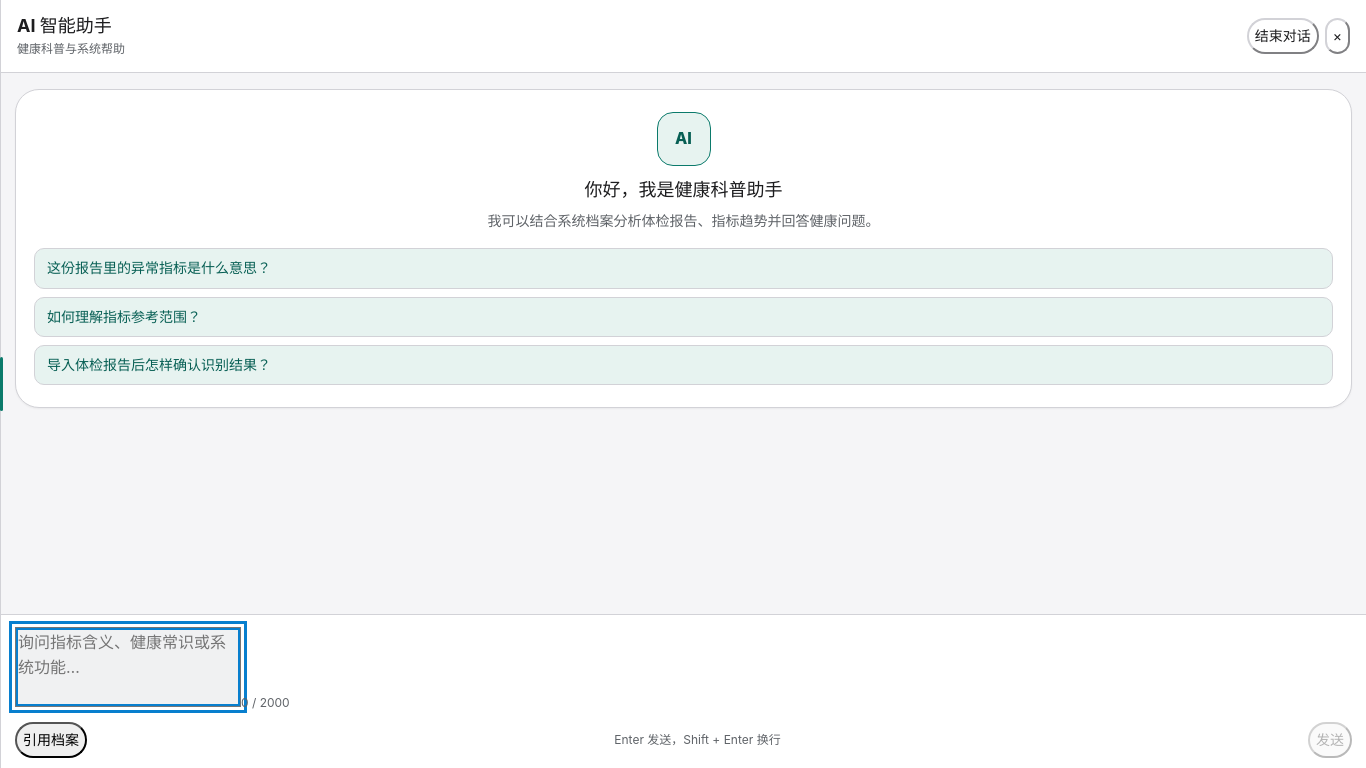
Test: AiAssistant record-aware interaction › does not load or show records initially and loads them on manual request
Step 1. Click the button with test id "open-record-picker" → x=51, y=740, box [15,722,87,758]
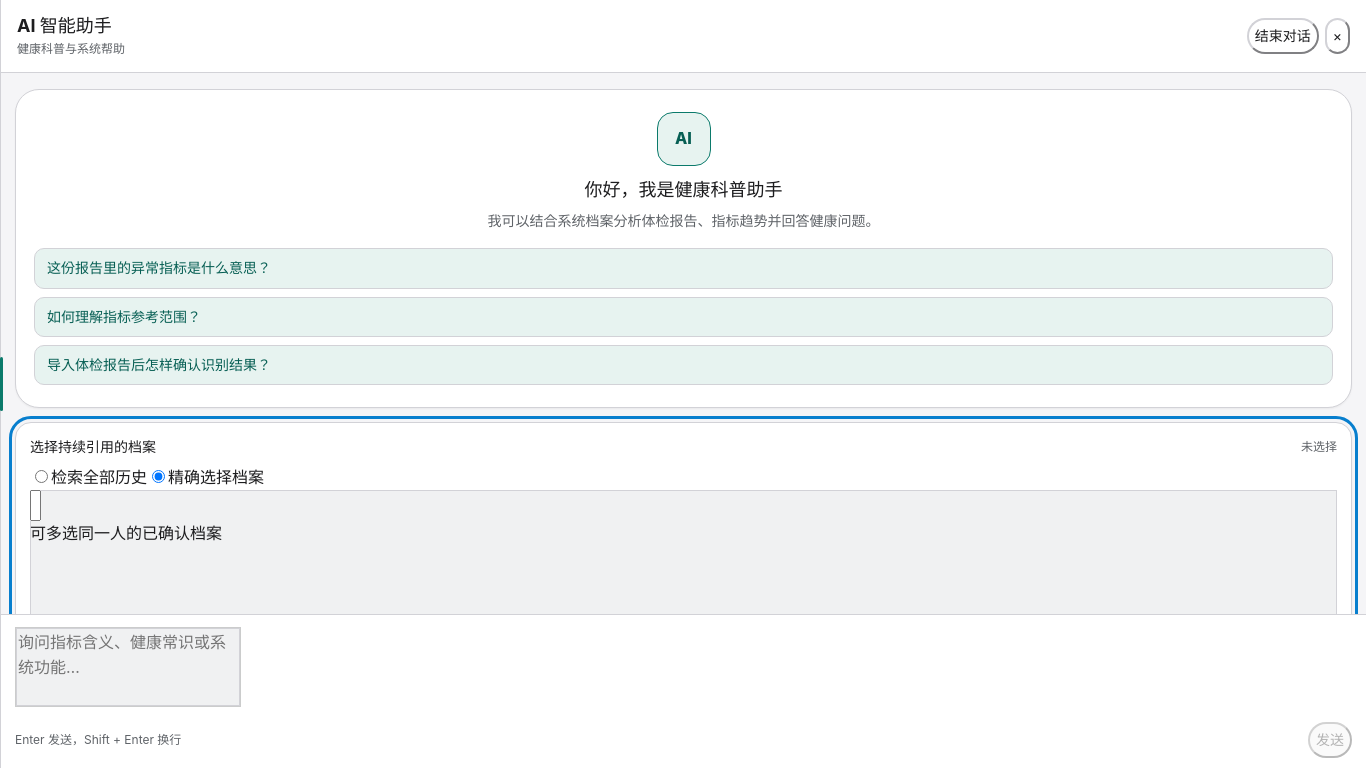
expect the text "选择持续引用的档案" is shown: met, box [30,437,156,457]
